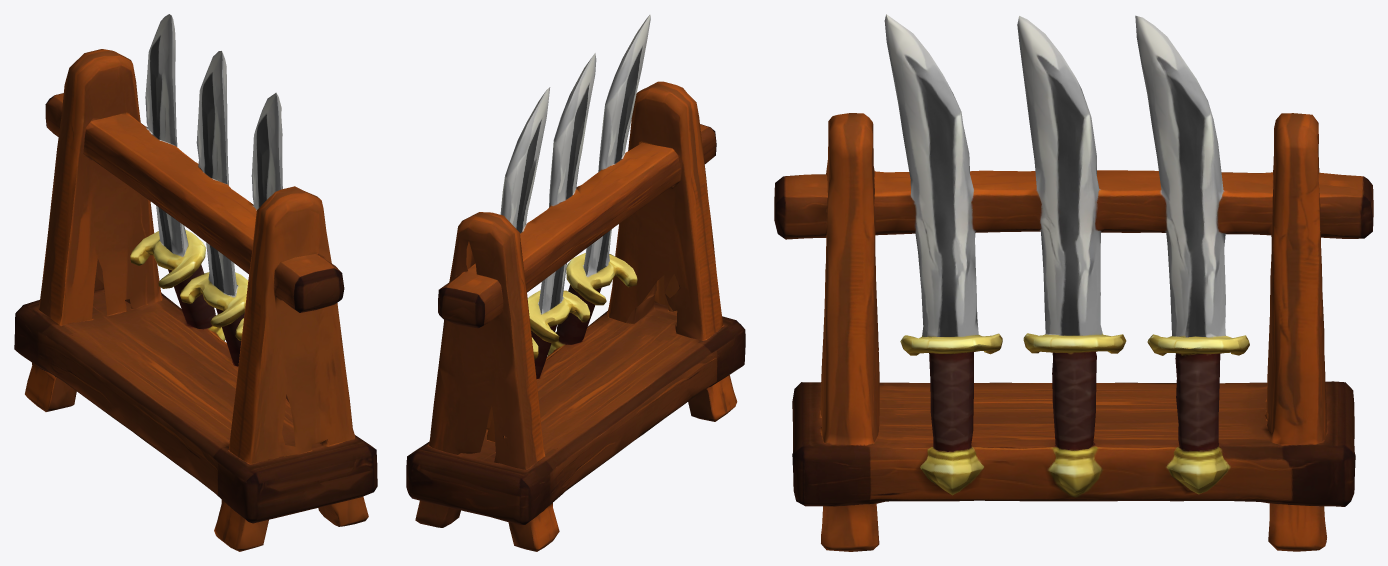
Rendered from cutlass_rack.glb.
3 renders of one model, left to right at view 1: azimuth 30°, elevation 25°; view 2: azimuth 150°, elevation 25°; view 3: azimuth 270°, elevation 25°, orthographic. The views are drawn at different scales.
Visible parts, largest first — view 1: world; view 2: world; view 3: world.
Boxes of the visible parts, box(x1,y1,x2,y2) form: world: box(14, 14, 377, 551); world: box(406, 14, 745, 551); world: box(774, 14, 1373, 551).
Size of the model in its own units: 0.3412 by 0.9279 by 1.
Materials: 1 (1 with a texture image).
